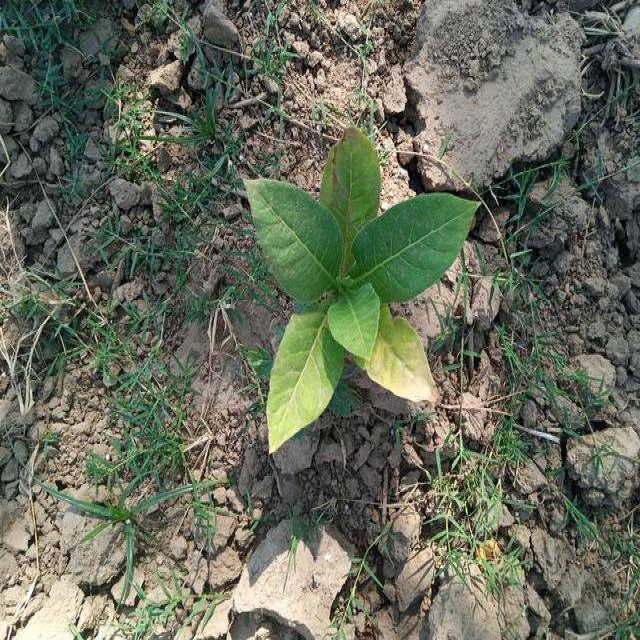crop: (244, 119, 471, 430)
